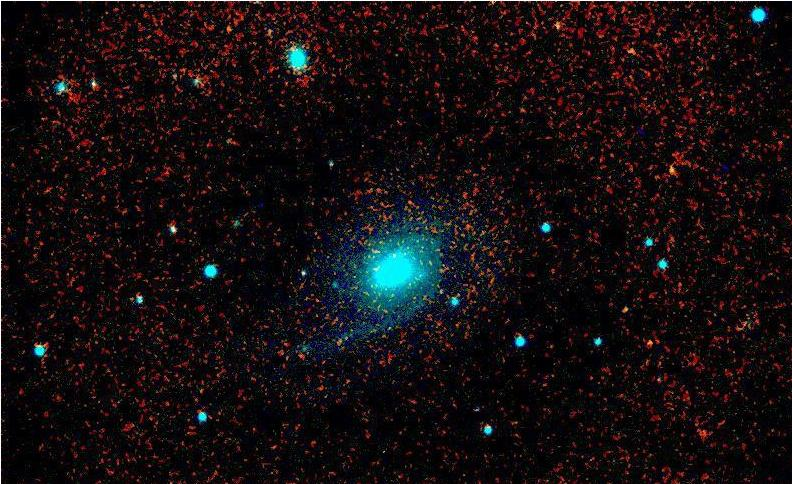star: (630, 323, 660, 353)
